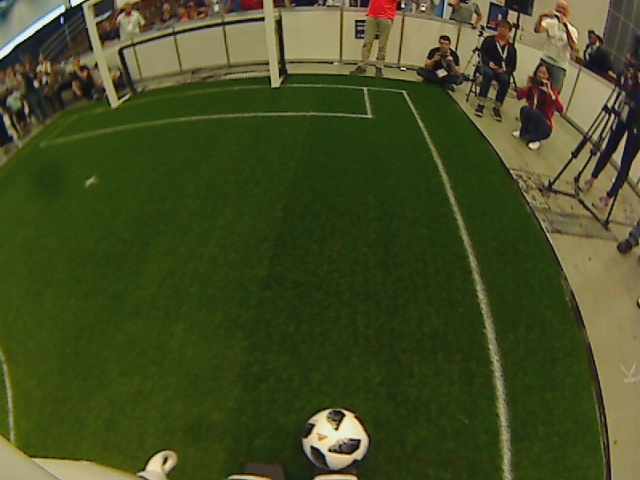ball: (297, 407, 372, 473)
